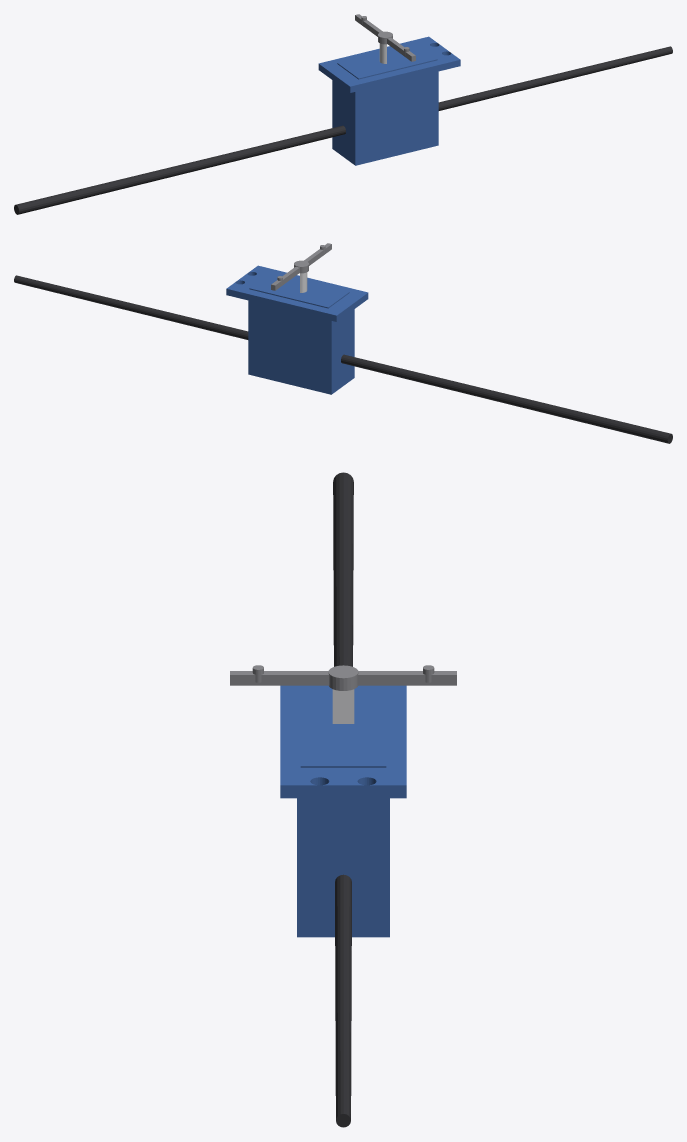
The picture shows the model from 3 angles, top to bottom: view 1: azimuth 30°, elevation 25°; view 2: azimuth 150°, elevation 25°; view 3: azimuth 270°, elevation 25°; orthographic projection. The views are drawn at different scales.
Visible parts, largest first — view 1: mg996r_case, mg996r_cable, mg996r_flange, mg996r_top_cover, mg996r_horn; view 2: mg996r_case, mg996r_cable, mg996r_flange, mg996r_top_cover, mg996r_horn; view 3: mg996r_case, mg996r_cable, mg996r_flange, mg996r_top_cover, mg996r_horn.
Part boxes in pixels (box(x1,y1,x2,y2)): mg996r_case: box(332, 71, 438, 165); mg996r_cable: box(14, 46, 672, 214); mg996r_flange: box(318, 36, 460, 92); mg996r_top_cover: box(337, 43, 437, 79); mg996r_horn: box(355, 14, 415, 61); mg996r_case: box(248, 300, 354, 394); mg996r_cable: box(14, 275, 672, 443); mg996r_flange: box(226, 265, 368, 321); mg996r_top_cover: box(249, 272, 349, 308); mg996r_horn: box(271, 243, 331, 290); mg996r_case: box(297, 798, 389, 937); mg996r_cable: box(333, 472, 353, 1127); mg996r_flange: box(280, 685, 406, 798); mg996r_top_cover: box(300, 688, 386, 767); mg996r_horn: box(230, 665, 456, 690).
Size of the model in its own units: 0.32 by 0.0535 by 0.048.
